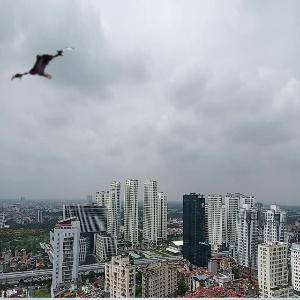drone: (8, 31, 79, 102)
